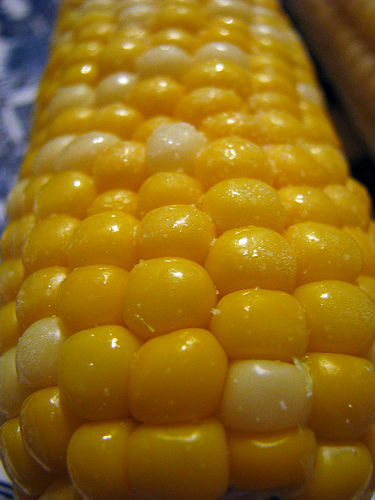corn: (0, 1, 373, 498)
